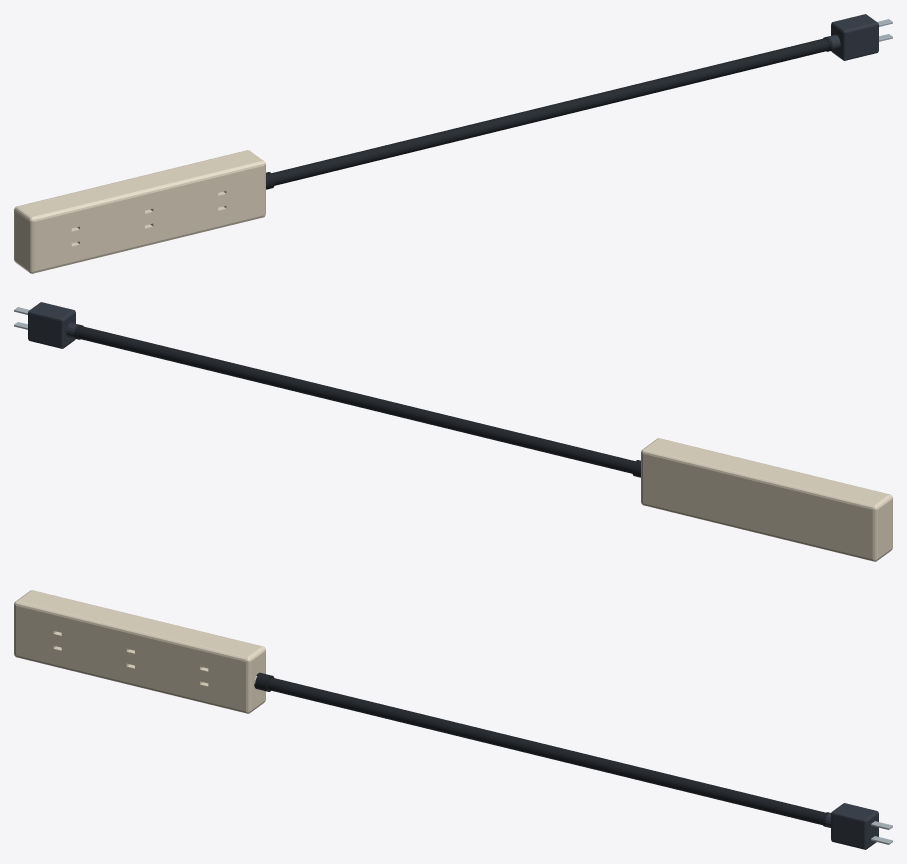
3 renders of one model, top to bottom at view 1: azimuth 30°, elevation 25°; view 2: azimuth 150°, elevation 25°; view 3: azimuth 330°, elevation 25°, orthographic.
Parts seen in each view (by area): view 1: geometry_0; view 2: geometry_0; view 3: geometry_0.
Part boxes in pixels (x1,y1,x2,y2): geometry_0: [14, 14, 892, 273]; geometry_0: [14, 302, 892, 561]; geometry_0: [14, 590, 892, 849].
Bounding box in the file's own units: 0.7715 × 0.048 × 0.028.
1 material, 1 textured.
